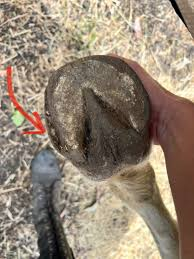horsesole: (44, 55, 151, 160)
